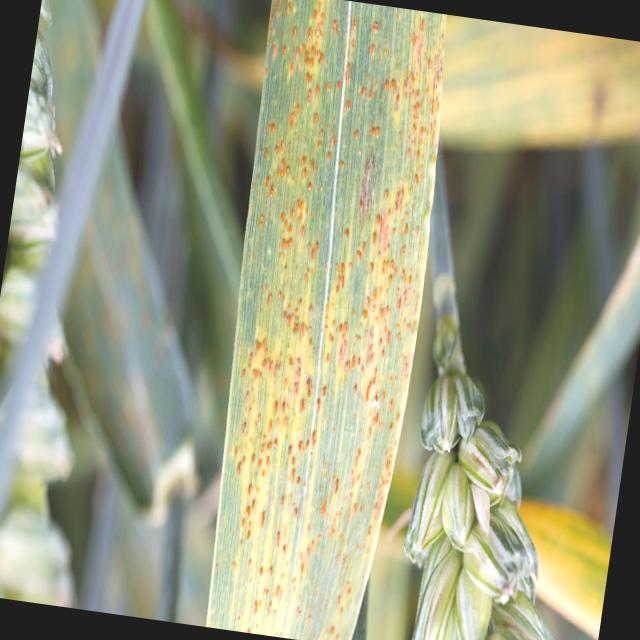leaf_rust: (209, 0, 445, 640)
